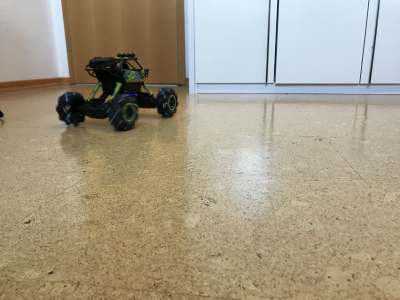remote control car: (53, 51, 180, 134)
